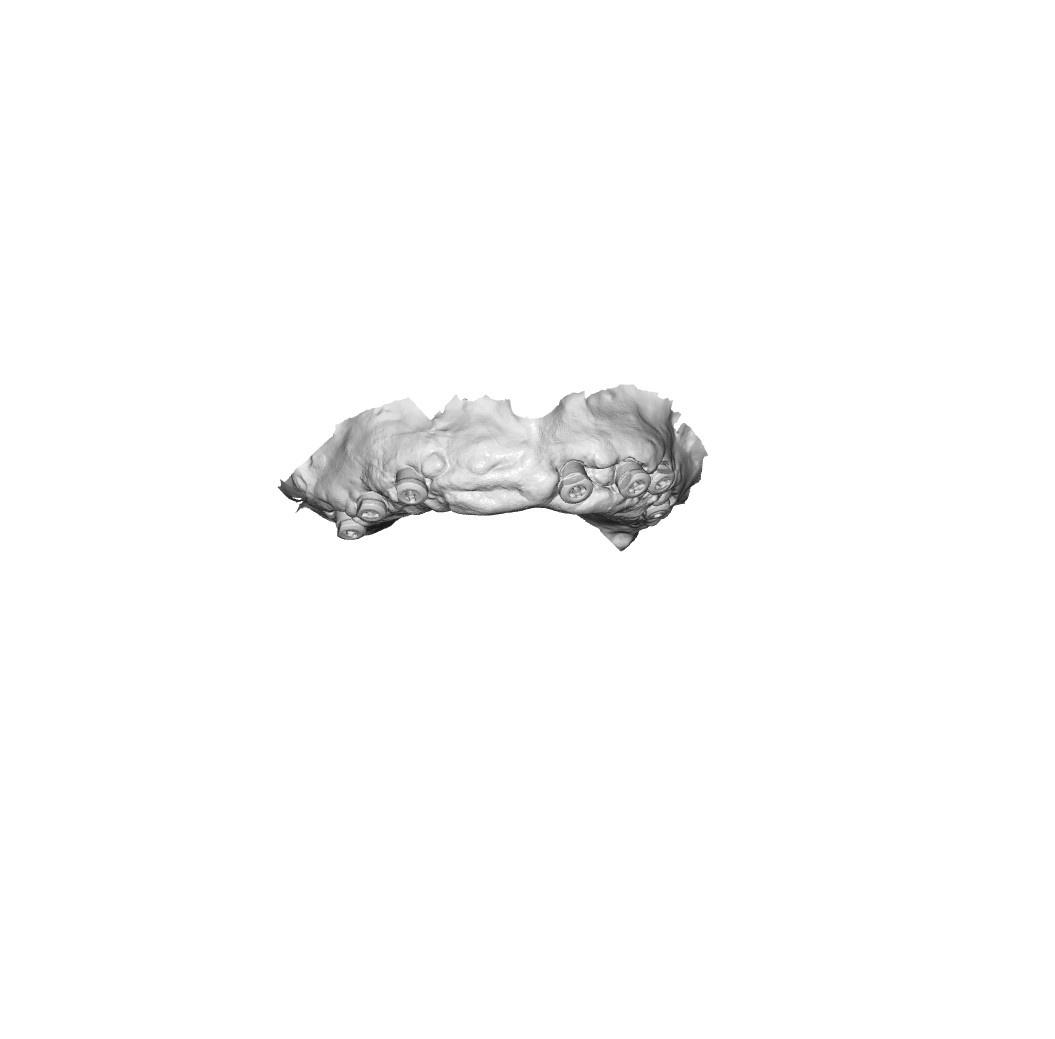implant_minus: (394, 473, 433, 515), (351, 492, 386, 527), (651, 462, 681, 495), (333, 521, 365, 549)
implant_plus: (554, 462, 593, 506), (613, 458, 652, 501)
